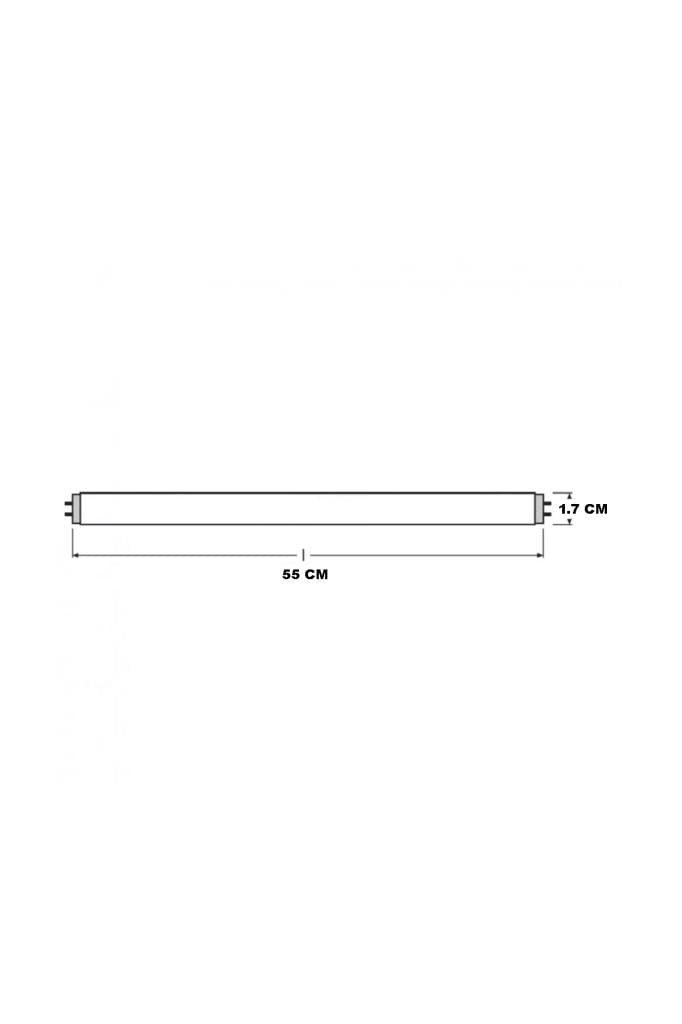IF: (530, 489, 552, 528)
|: (543, 529, 544, 557)
